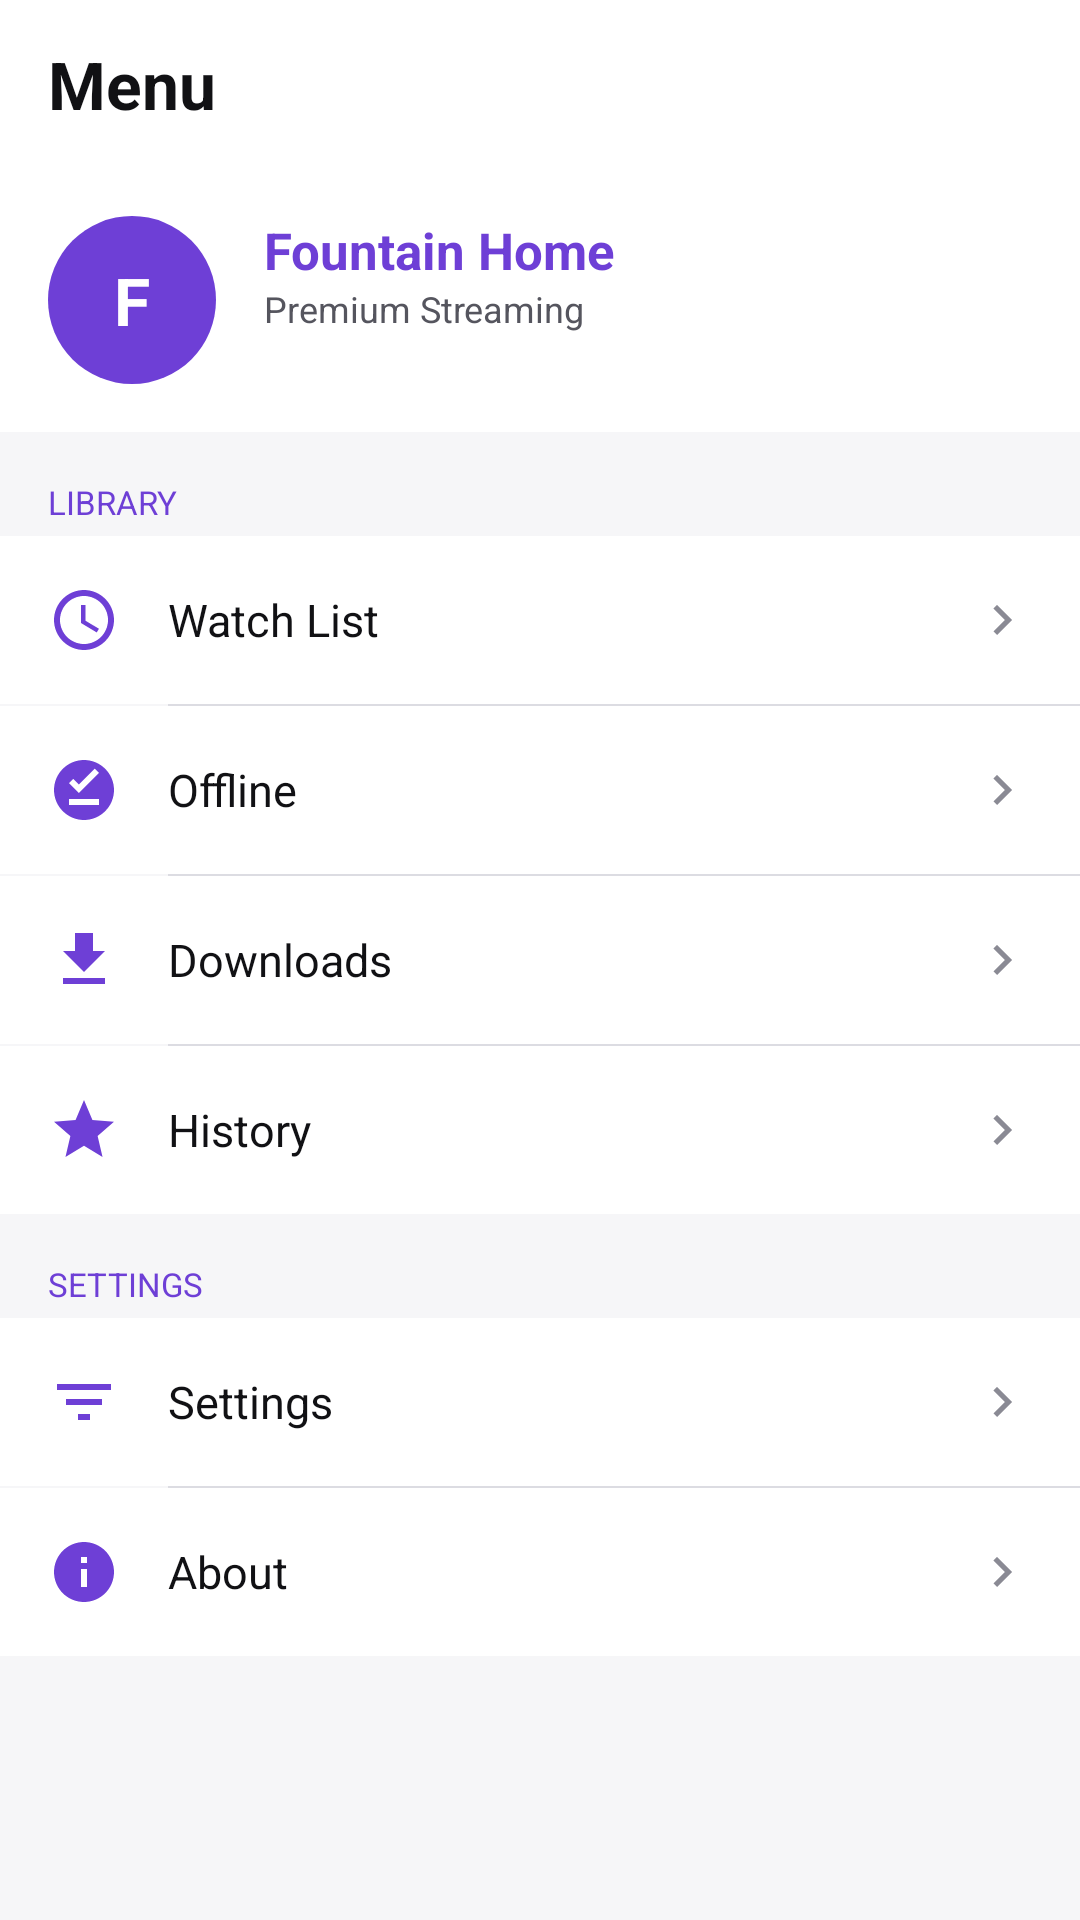

Where icons sit on this 1080×1920 app screen, as box=[x1, y1, x2, y2]:
arrow right: box=[993, 605, 1012, 635], box=[993, 775, 1012, 805], box=[993, 945, 1012, 975], box=[993, 1115, 1012, 1145], box=[993, 1387, 1012, 1417], box=[993, 1557, 1012, 1587]
filter: box=[57, 1384, 111, 1420]
info: box=[54, 1542, 114, 1602]
star: box=[54, 1100, 114, 1157]
watch later: box=[54, 590, 114, 650]
